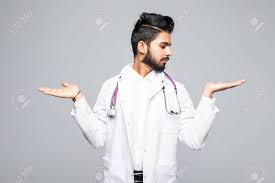Indian_Male: (141, 7, 173, 74)
